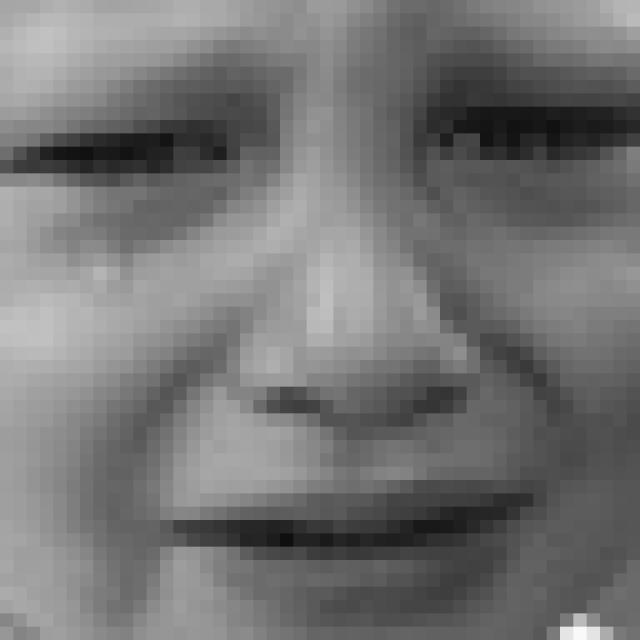sad: (5, 36, 640, 640)
